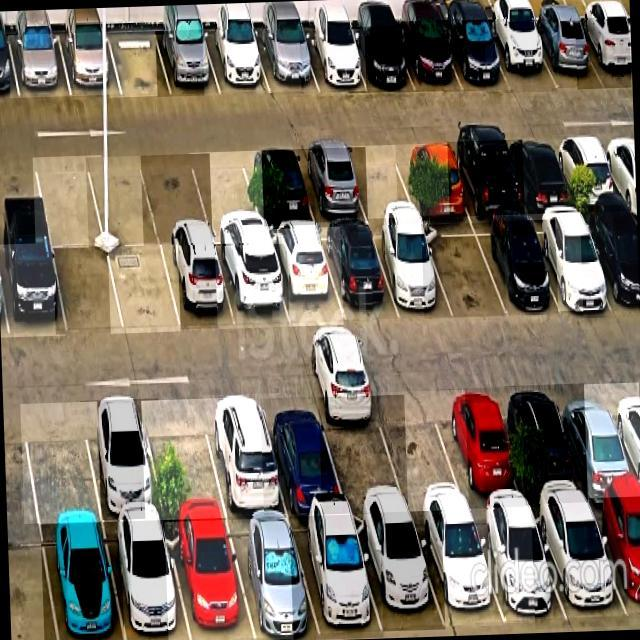empty: (374, 391, 469, 511), (318, 396, 408, 511), (141, 401, 227, 520), (21, 402, 101, 523), (422, 223, 506, 317), (190, 151, 264, 244), (85, 156, 159, 246), (141, 155, 212, 245), (33, 157, 104, 245), (108, 246, 180, 332), (53, 248, 123, 334), (344, 146, 416, 218), (107, 31, 172, 95)
occupied: (531, 502, 629, 627), (290, 515, 383, 640), (226, 519, 319, 639), (471, 508, 567, 623), (164, 519, 255, 640), (411, 510, 505, 627), (352, 514, 445, 630), (436, 388, 525, 508), (201, 394, 287, 516), (105, 520, 190, 640), (260, 398, 346, 513), (555, 385, 640, 501), (505, 386, 587, 505), (41, 523, 124, 640), (81, 401, 163, 519), (528, 213, 614, 311), (473, 221, 558, 314), (319, 225, 399, 320), (266, 228, 343, 326), (370, 225, 452, 317), (161, 245, 236, 329), (589, 497, 640, 618), (215, 244, 289, 327), (580, 212, 639, 314), (0, 245, 65, 337), (447, 140, 524, 216), (242, 149, 316, 226), (295, 147, 367, 222), (503, 136, 574, 209), (396, 143, 469, 214), (484, 21, 557, 92), (528, 20, 604, 88), (551, 135, 620, 205), (441, 22, 510, 91), (395, 21, 462, 92), (347, 26, 414, 91), (203, 30, 270, 94), (155, 31, 220, 95), (299, 30, 366, 91), (58, 32, 121, 96), (9, 33, 70, 97), (254, 31, 317, 92), (575, 19, 631, 87)
